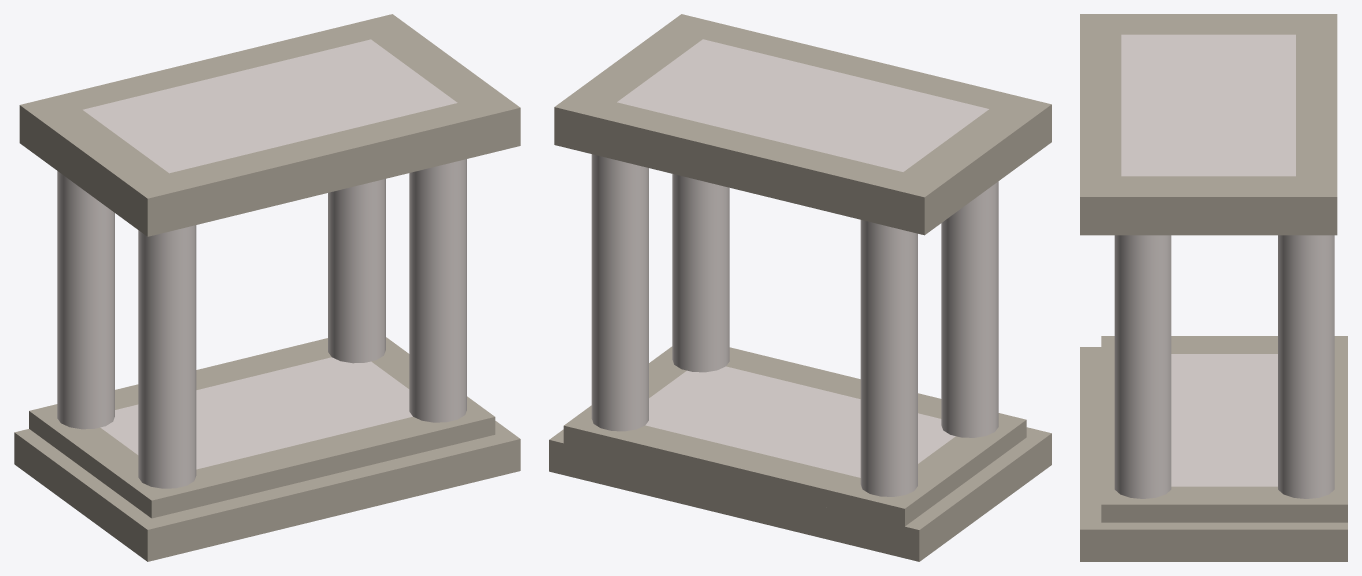
Rendered from fbx_school_outdoor_door4.fbx.
3 views of the same model, side by side, from view 1: azimuth 30°, elevation 25°; view 2: azimuth 150°, elevation 25°; view 3: azimuth 270°, elevation 25° (orthographic).
Visible parts, largest first — view 1: fbx_school_outdoor_door4; view 2: fbx_school_outdoor_door4; view 3: fbx_school_outdoor_door4.
Boxes of the visible parts, <box> form: fbx_school_outdoor_door4: <box>14,14,520,561</box>; fbx_school_outdoor_door4: <box>549,14,1051,561</box>; fbx_school_outdoor_door4: <box>1080,14,1347,561</box>.
Bounding box in the file's own units: 1.68 × 1.57 × 1.04.
1 material, 1 textured.
